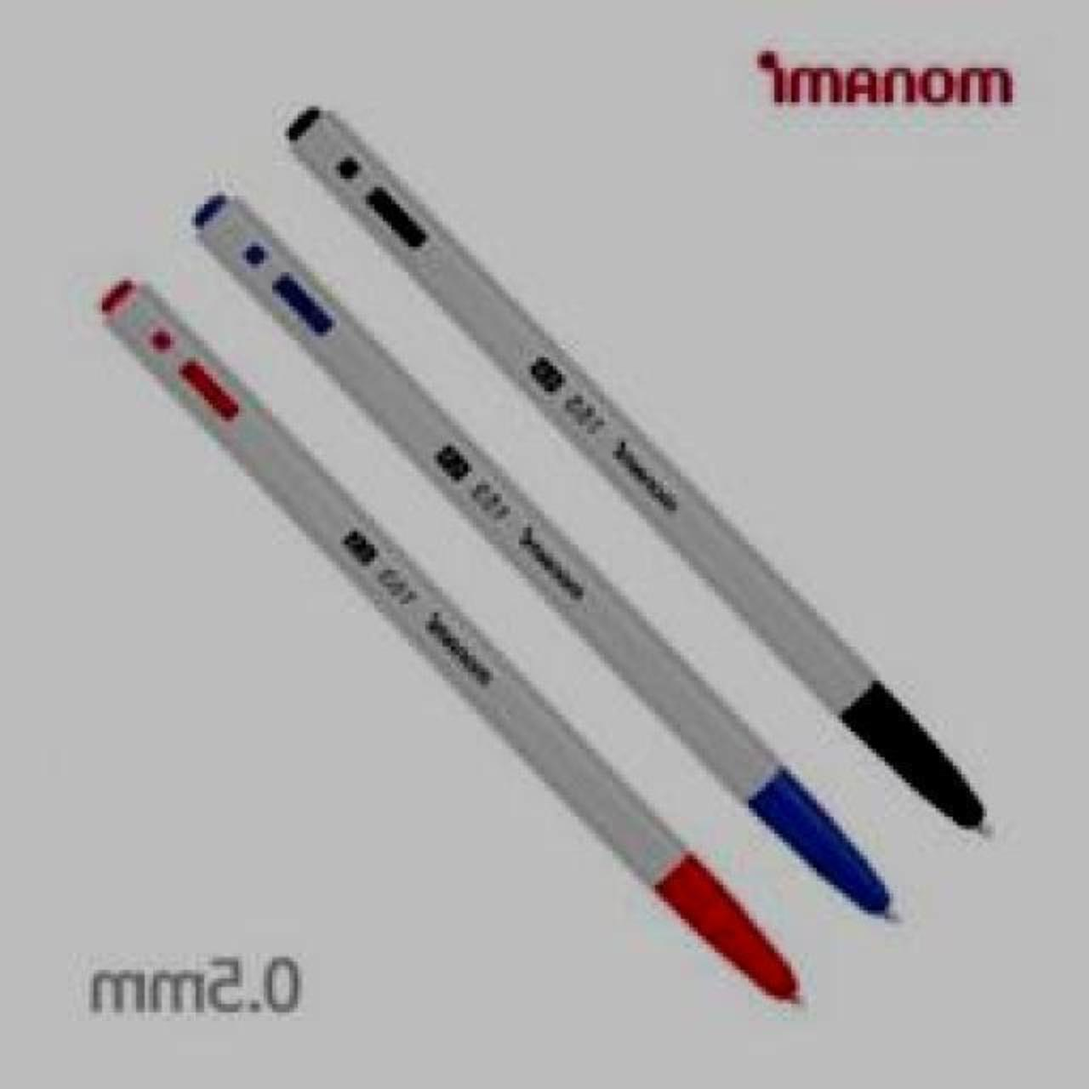pen: (276, 102, 990, 847)
